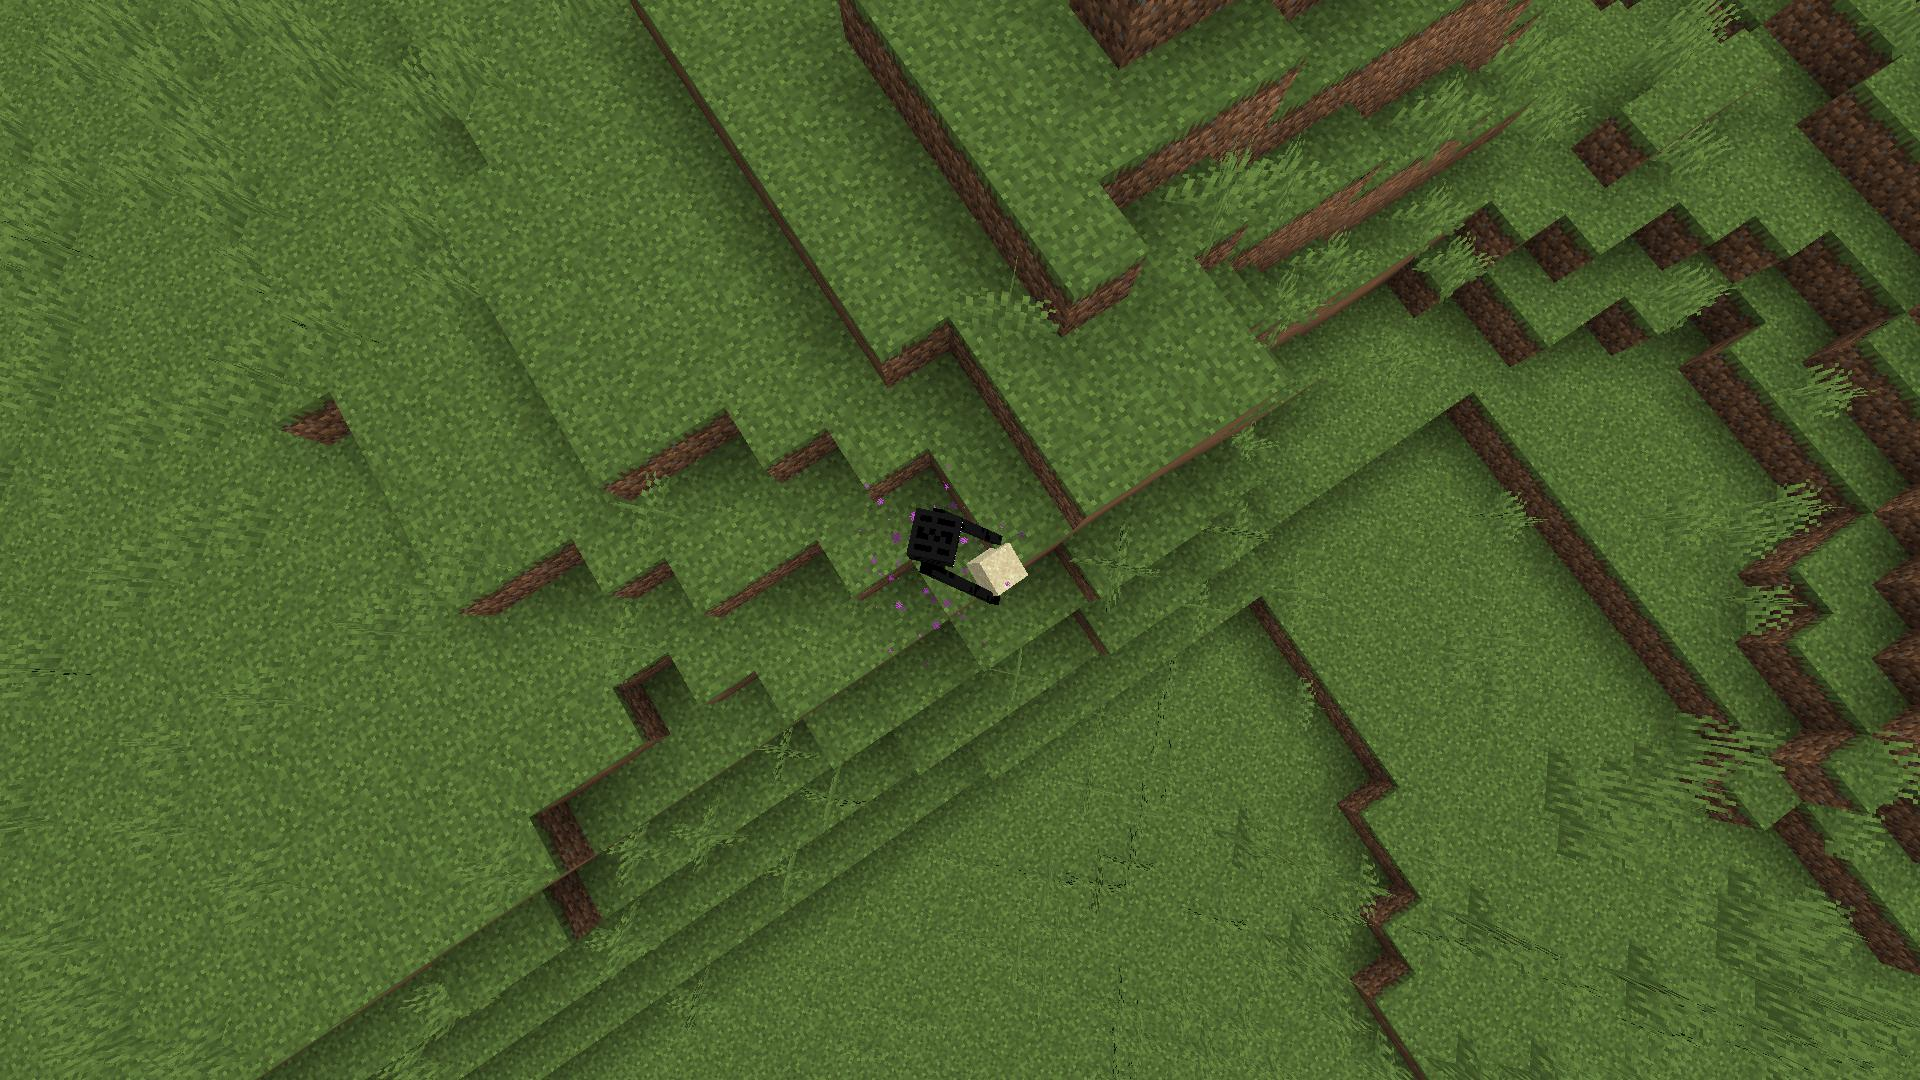enderman: (886, 472, 1031, 625)
